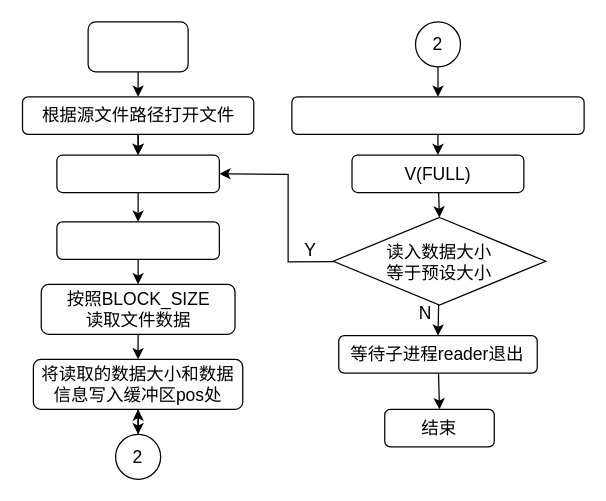
The diagram is 606 pixels wide and 501 high, and some of its shapes have lost their labels. The shapes that lost their labels are listed below. From the top down, each one's box as (x1, y1, x2, y2) in pixels, then its label:
(87, 21, 188, 72): writer
(291, 96, 584, 134): pos ← (pos + 1) % BLOCK_NUM
(56, 154, 219, 192): pos ← 0
(56, 221, 219, 259): P(EMPTY)
